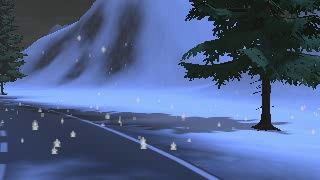Lane: (0, 100, 221, 179)
